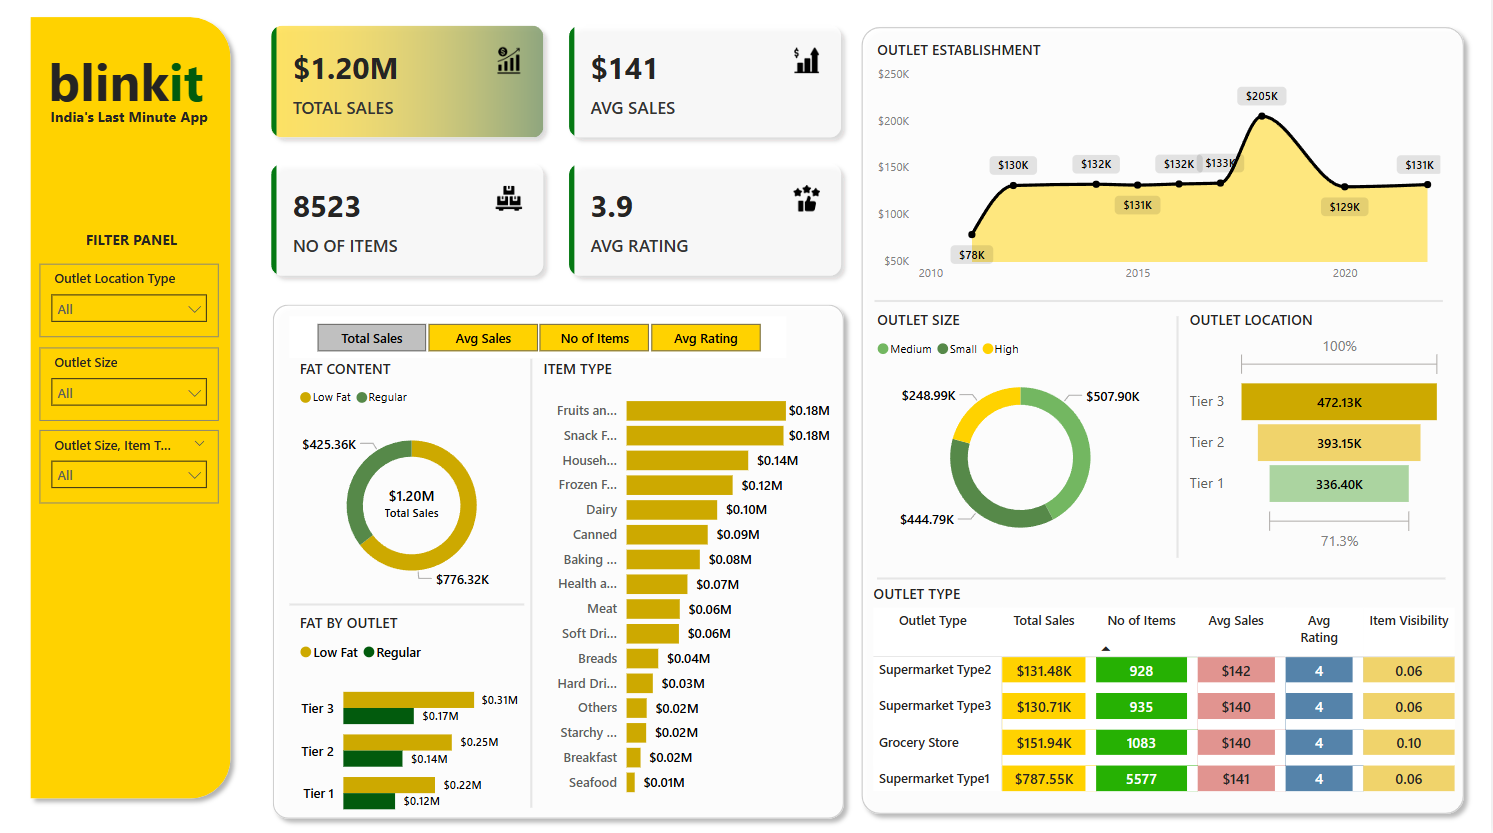

What the dashboard file says about the page in this screenshot:
{"tool":"powerbi","page":{"name":"Page 1","canvas":[1400,800],"ordinal":0},"visuals":[{"type":"shape","box":[22.5,25.5,205.6,750.4],"z":0},{"type":"textbox","box":[43.2,56,164.1,86.5],"z":1000},{"type":"textbox","box":[39.4,113.2,167.9,29.3],"z":2000},{"type":"cardVisual","fields":{"Data":["BlinkIT Grocery Data.Total Sales","BlinkIT Grocery Data.Avg Sales","BlinkIT Grocery Data.No of Items","BlinkIT Grocery Data.Avg Rating"]},"box":[240.4,25.4,569.8,269.6],"z":3000},{"type":"shape","box":[249.3,295.1,553.2,499.8],"z":4000},{"type":"donutChart","title":"FAT CONTENT","fields":{"Y":["BlinkIT Grocery Data.Total Sales"],"Category":["BlinkIT Grocery Data.Item Fat Content"]},"box":[278.5,354.8,220,230.2],"z":5000},{"type":"slicer","fields":{"Values":["Metrics.Metrics"]},"box":[274.7,315.4,465.5,39.4],"z":6000},{"type":"cardVisual","fields":{"Data":["BlinkIT Grocery Data.Total Sales"]},"box":[331.9,446.4,114.5,87.8],"z":7000},{"type":"clusteredBarChart","title":"FAT BY OUTLET","fields":{"Y":["BlinkIT Grocery Data.Total Sales"],"Category":["BlinkIT Grocery Data.Outlet Location Type"],"Series":["BlinkIT Grocery Data.Item Fat Content"]},"box":[278.5,592.7,214.9,207.3],"z":8000},{"type":"shape","box":[274.7,576.1,220,17.8],"z":9000},{"type":"shape","box":[494.7,354.8,12.7,421],"z":10000},{"type":"barChart","title":"ITEM TYPE","fields":{"Y":["BlinkIT Grocery Data.Total Sales"],"Category":["BlinkIT Grocery Data.Item Type"]},"box":[507.5,354.8,278.5,421],"z":11000},{"type":"shape","box":[801.2,35.6,582.5,755.5],"z":12000},{"type":"lineChart","title":"OUTLET ESTABLISHMENT","fields":{"Y":["BlinkIT Grocery Data.Total Sales"],"Category":["BlinkIT Grocery Data.Outlet Establishment Year"]},"box":[820.3,56,538,235.3],"z":13000},{"type":"shape","box":[825.4,557.1,532.9,8.9],"z":14000},{"type":"donutChart","title":"OUTLET SIZE","fields":{"Y":["BlinkIT Grocery Data.Total Sales"],"Category":["BlinkIT Grocery Data.Outlet Size"]},"box":[820.3,309,278.5,231.5],"z":15000},{"type":"shape","box":[1100.1,315.4,12.7,226.4],"z":16000},{"type":"funnel","title":"OUTLET LOCATION","fields":{"Y":["Sum(BlinkIT Grocery Data.Sales)"],"Category":["BlinkIT Grocery Data.Outlet Location Type"]},"box":[1112.8,309,246.7,231.5],"z":17000},{"type":"shape","box":[822.9,296.3,532.9,8.9],"z":18000},{"type":"pivotTable","title":"OUTLET TYPE","fields":{"Rows":["BlinkIT Grocery Data.Outlet Type"],"Values":["BlinkIT Grocery Data.Total Sales","BlinkIT Grocery Data.No of Items","BlinkIT Grocery Data.Avg Sales","BlinkIT Grocery Data.Avg Rating","Avg(BlinkIT Grocery Data.Item Visibility)"]},"box":[816.5,566,563.4,209.8],"z":19000},{"type":"slicer","fields":{"Values":["BlinkIT Grocery Data.Outlet Location Type"]},"box":[39.4,265.8,167.9,68.7],"z":20000},{"type":"slicer","fields":{"Values":["BlinkIT Grocery Data.Outlet Size"]},"box":[39.4,344.7,167.9,68.7],"z":21000},{"type":"slicer","fields":{"Values":["BlinkIT Grocery Data.Outlet Size","BlinkIT Grocery Data.Item Type"]},"box":[39.4,422.2,167.9,68.7],"z":22000},{"type":"textbox","box":[62.1,229.6,127.7,28.1],"z":22001}]}

Visuals, with their boxes in screenshot pixels (x1, y1, x2, y2), scaled from the page's 1400x800 canvas onto the 1493x833 screenshot:
shape: pyautogui.locateOnScreen(24, 27, 243, 808)
textbox: pyautogui.locateOnScreen(46, 58, 221, 148)
textbox: pyautogui.locateOnScreen(42, 118, 221, 148)
cardVisual - BlinkIT Grocery Data.Total Sales x BlinkIT Grocery Data.Avg Sales: pyautogui.locateOnScreen(256, 26, 864, 307)
shape: pyautogui.locateOnScreen(266, 307, 856, 828)
"FAT CONTENT" donutChart: pyautogui.locateOnScreen(297, 369, 532, 609)
slicer - Metrics.Metrics: pyautogui.locateOnScreen(293, 328, 789, 369)
cardVisual - BlinkIT Grocery Data.Total Sales: pyautogui.locateOnScreen(354, 465, 476, 556)
"FAT BY OUTLET" clusteredBarChart: pyautogui.locateOnScreen(297, 617, 526, 832)
shape: pyautogui.locateOnScreen(293, 600, 528, 618)
shape: pyautogui.locateOnScreen(528, 369, 541, 808)
"ITEM TYPE" barChart: pyautogui.locateOnScreen(541, 369, 838, 808)
shape: pyautogui.locateOnScreen(854, 37, 1476, 824)
"OUTLET ESTABLISHMENT" lineChart: pyautogui.locateOnScreen(875, 58, 1449, 303)
shape: pyautogui.locateOnScreen(880, 580, 1449, 589)
"OUTLET SIZE" donutChart: pyautogui.locateOnScreen(875, 322, 1172, 563)
shape: pyautogui.locateOnScreen(1173, 328, 1187, 564)
"OUTLET LOCATION" funnel: pyautogui.locateOnScreen(1187, 322, 1450, 563)
shape: pyautogui.locateOnScreen(878, 309, 1446, 318)
"OUTLET TYPE" pivotTable: pyautogui.locateOnScreen(871, 589, 1472, 808)
slicer - BlinkIT Grocery Data.Outlet Location Type: pyautogui.locateOnScreen(42, 277, 221, 348)
slicer - BlinkIT Grocery Data.Outlet Size: pyautogui.locateOnScreen(42, 359, 221, 430)
slicer - BlinkIT Grocery Data.Outlet Size x BlinkIT Grocery Data.Item Type: pyautogui.locateOnScreen(42, 440, 221, 511)
textbox: pyautogui.locateOnScreen(66, 239, 202, 268)
